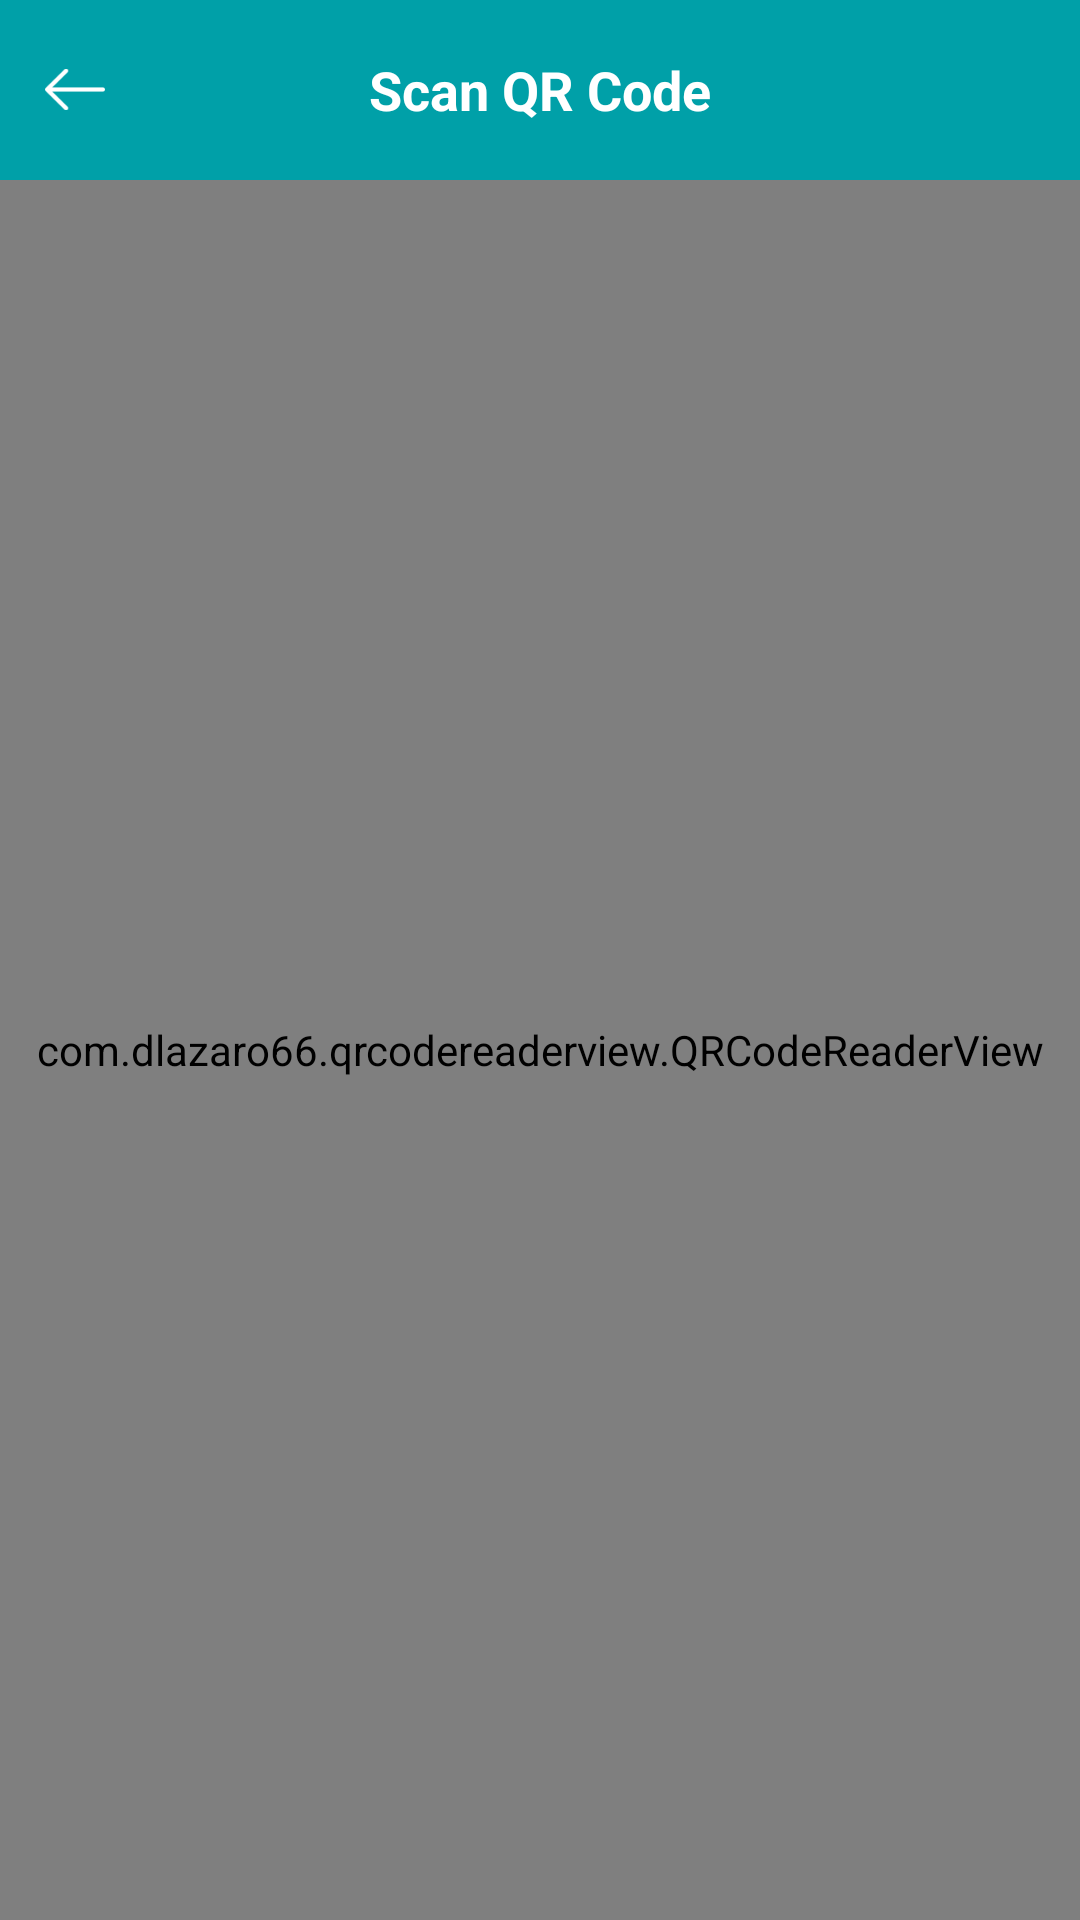

Icon bounding boxes for this 1080 x 1920 phone screenshot, format (x1, y1, x2, y2):
back: (45, 69, 105, 110)
